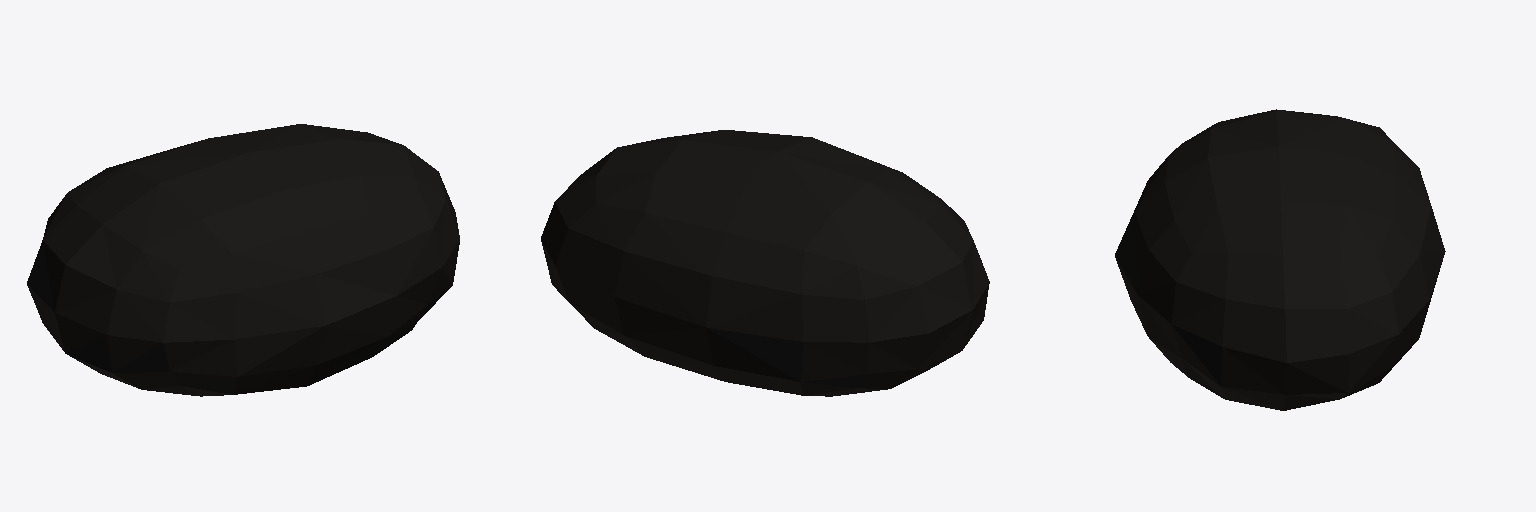
Rendered from rockOBJ.obj.
3 views of the same model, side by side, from view 1: azimuth 30°, elevation 25°; view 2: azimuth 150°, elevation 25°; view 3: azimuth 270°, elevation 25° (orthographic).
Visible parts, largest first — view 1: Box001; view 2: Box001; view 3: Box001.
Part boxes in pixels (x1,y1,x2,y2): Box001: (27,124,459,396); Box001: (541,130,989,396); Box001: (1115,109,1445,410).
Bounding box in the file's own units: 38.65 × 19.22 × 27.28.